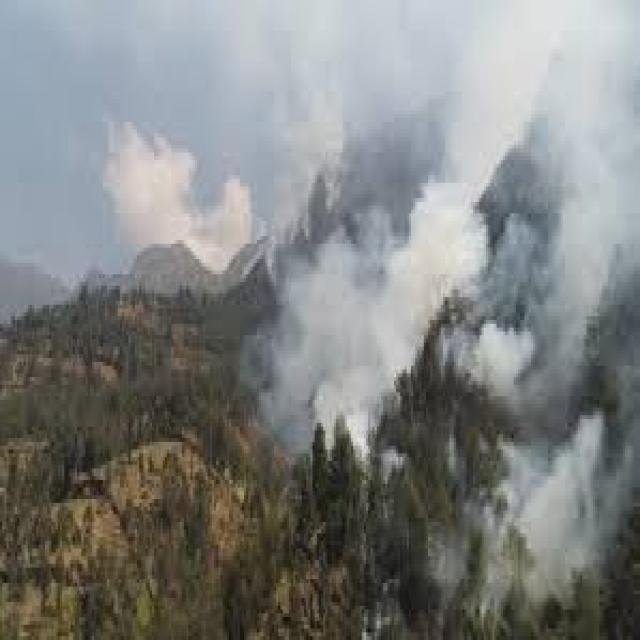Smoke: (411, 248, 640, 628), (414, 0, 640, 244), (236, 200, 408, 466), (93, 67, 254, 313)
